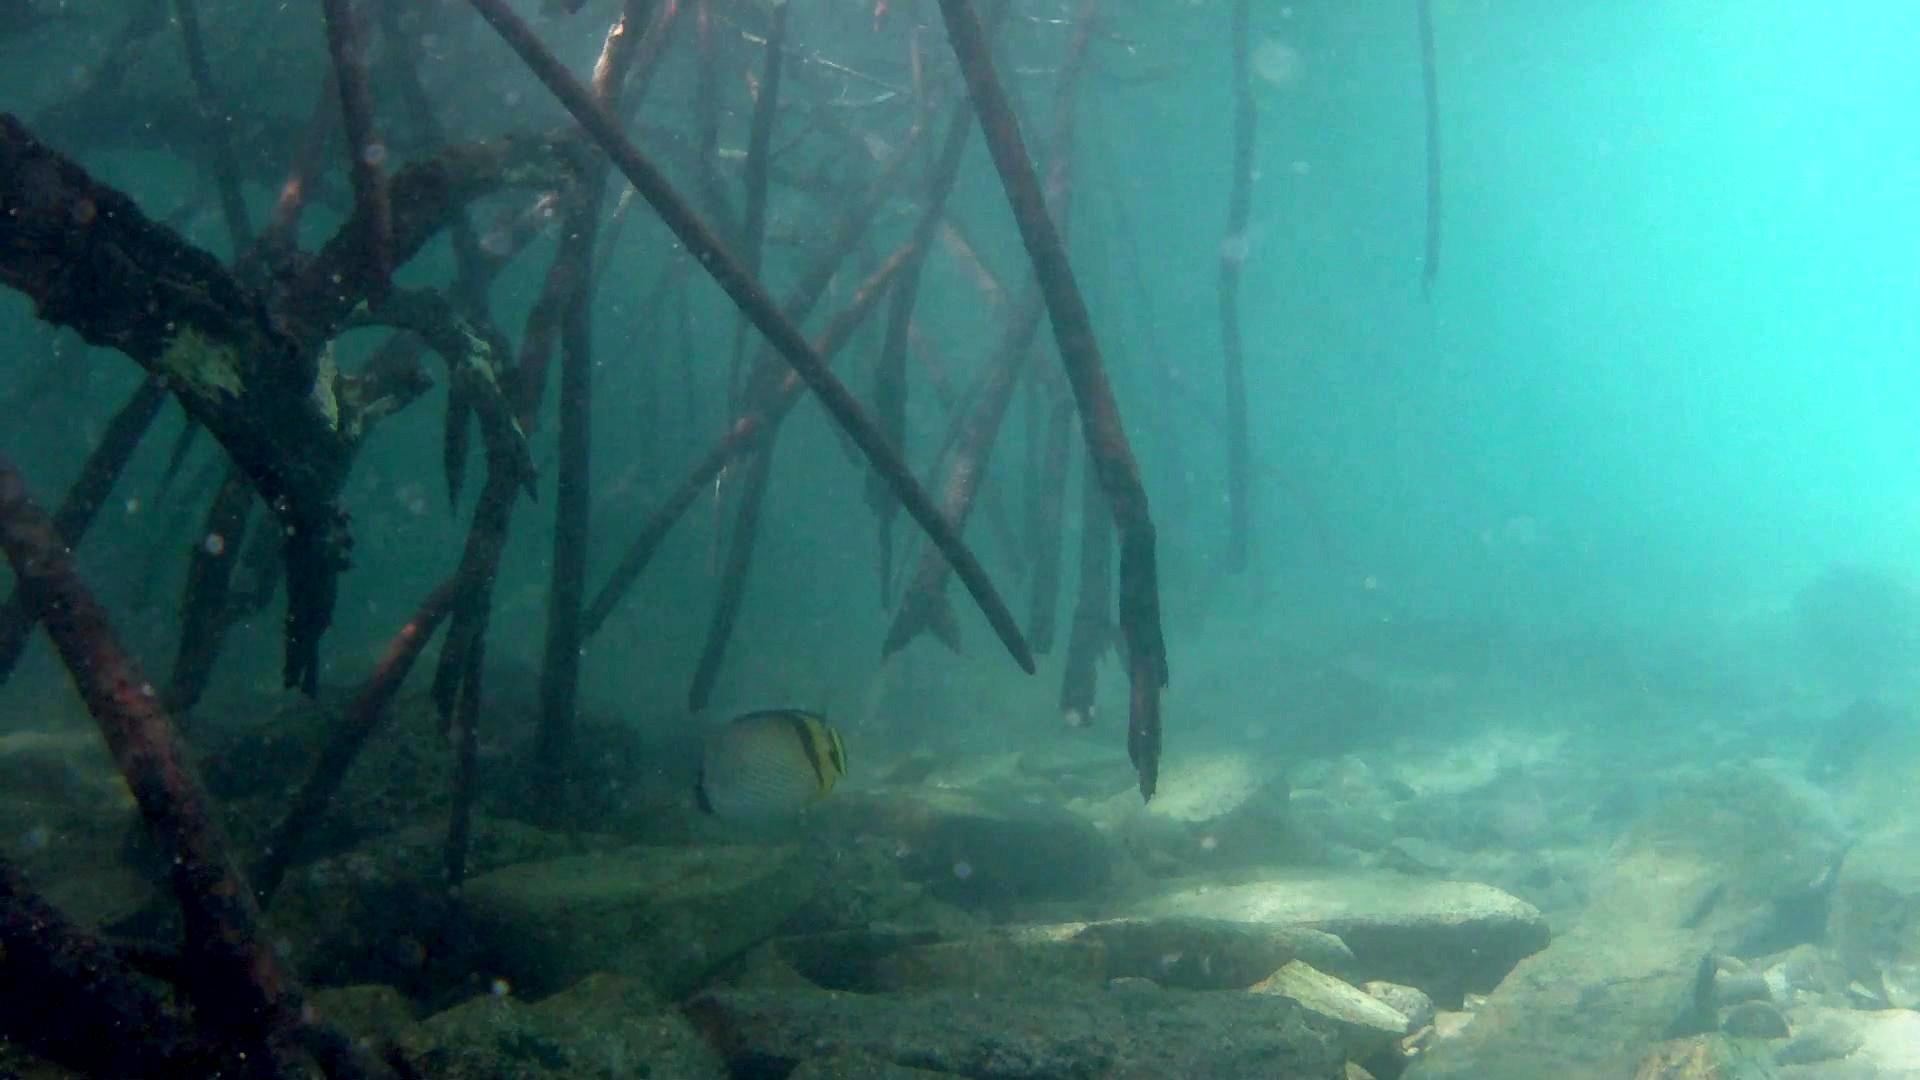chaetodon vagabundus: (670, 701, 855, 829)
